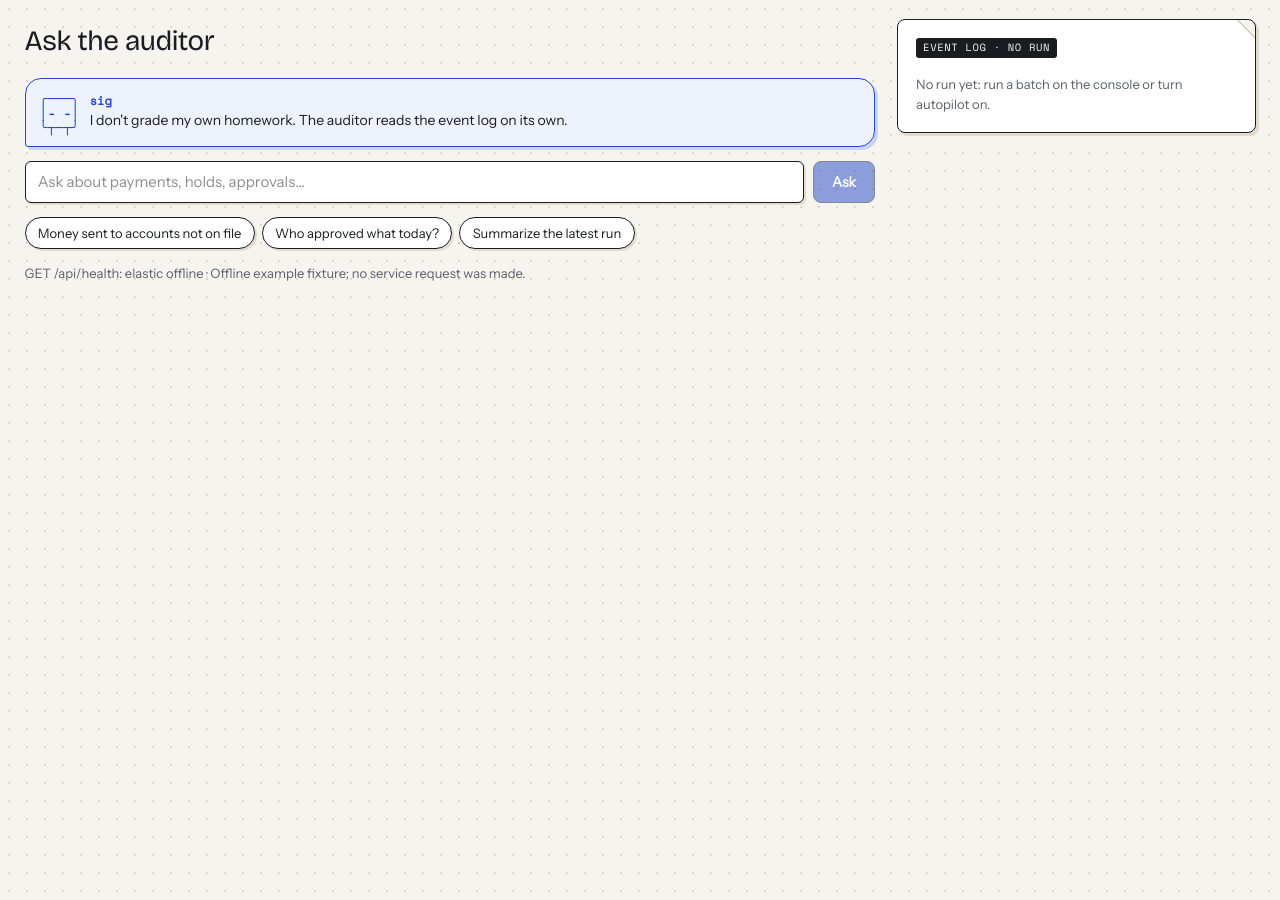
Test case: <AuditPage> › a 503 shows that Elastic is offline, with no answer of its own
Step 1. Type "Which payments were held?" into the field named "Question" → coordinates (414, 182), box [24,161,804,203]
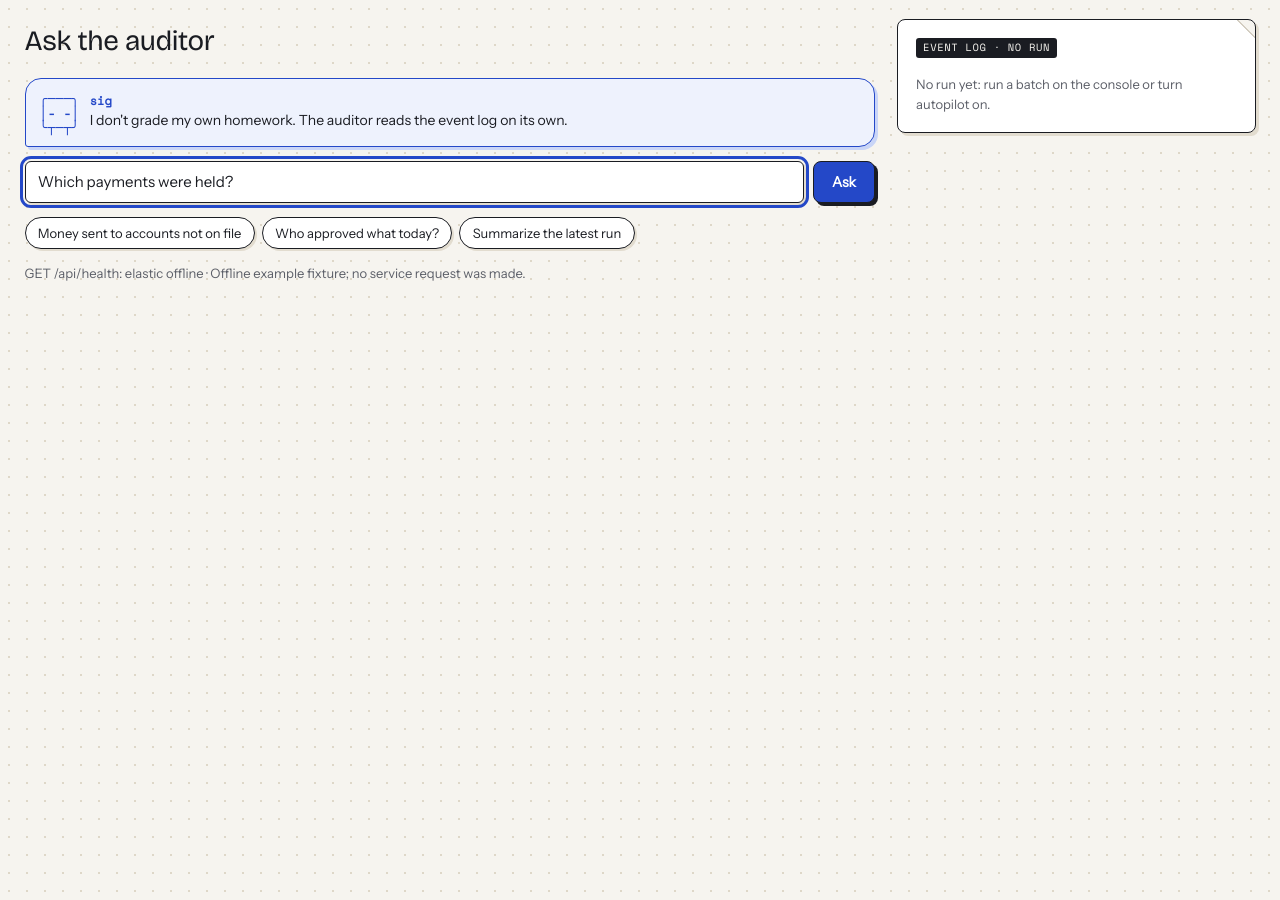
Step 2. Click the button "Ask" → coordinates (844, 182), box [813,161,875,203]
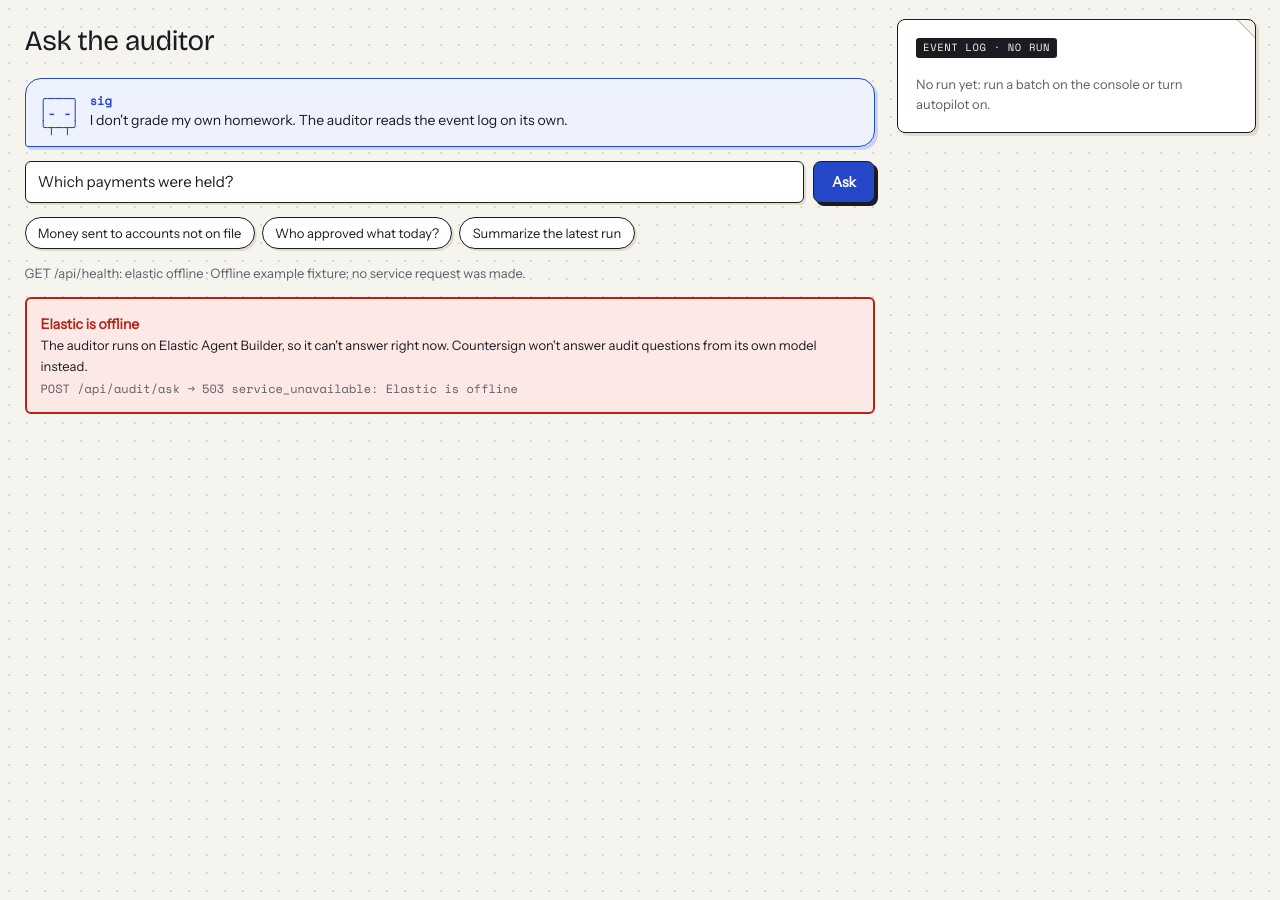
Expected: the message with test id "elastic-offline" shows "Elastic is offline", [40,315,139,333]
Expected: the message with test id "elastic-offline" shows "POST /api/audit/ask → 503 service_unavailable", [24,297,875,414]
